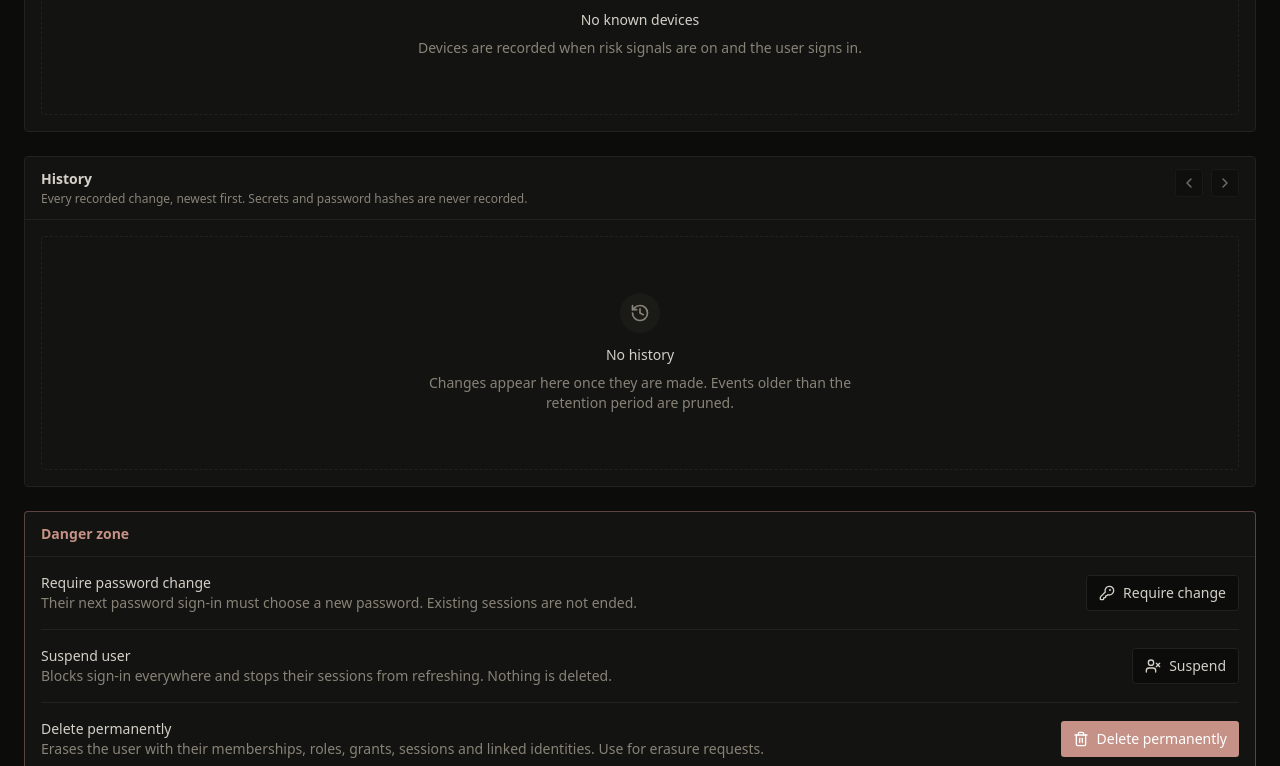
Test: suspends and reactivates a user
(page scrolled)
Click the button "Suspend": (1186,666) [1132, 648, 1239, 684]
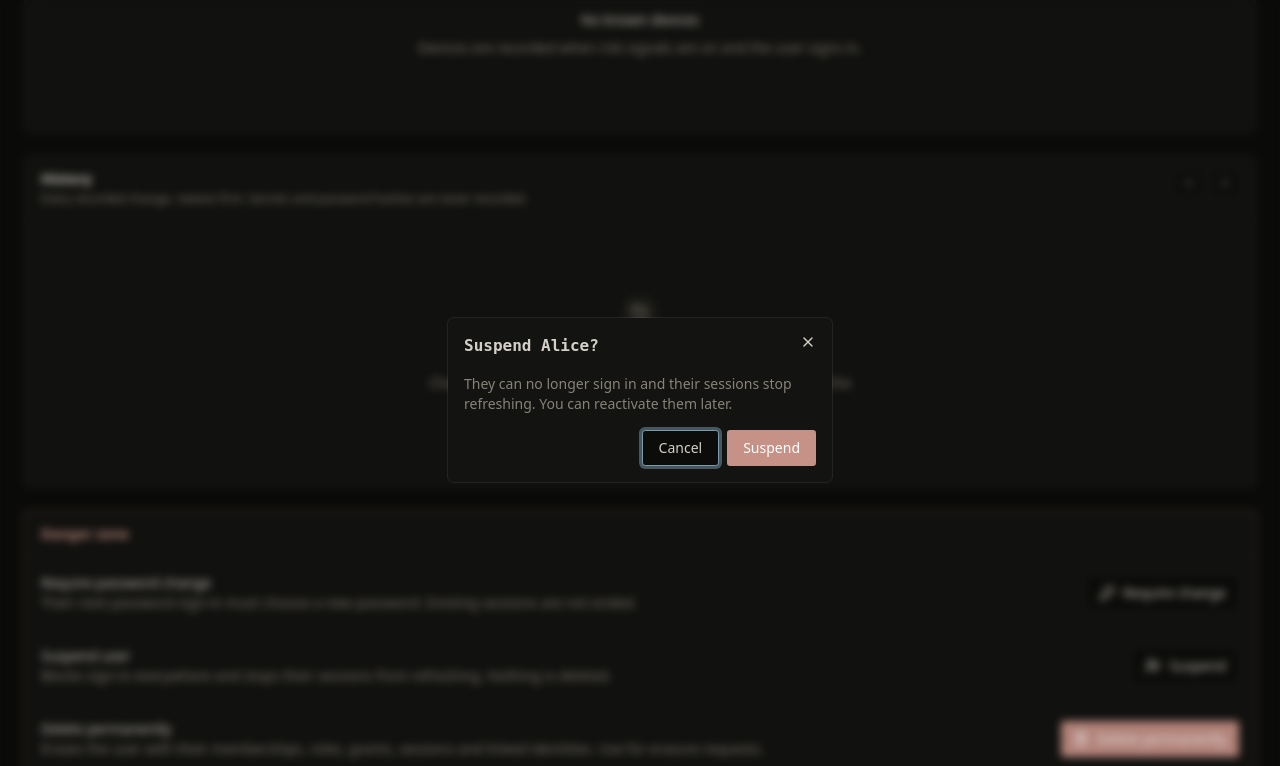
Click the button "Suspend": (772,448) [727, 430, 816, 466]
(page scrolled)
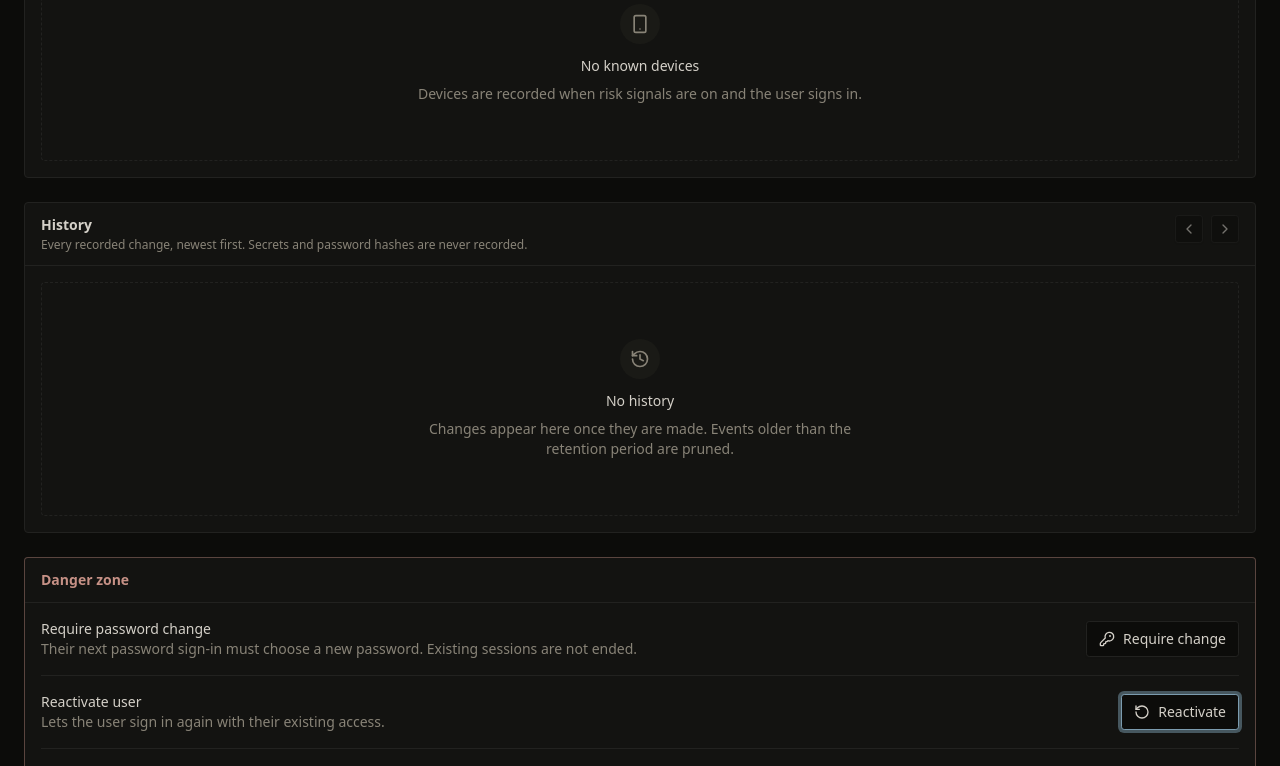
Click the button "Reactivate": (1180,712) [1121, 694, 1239, 730]
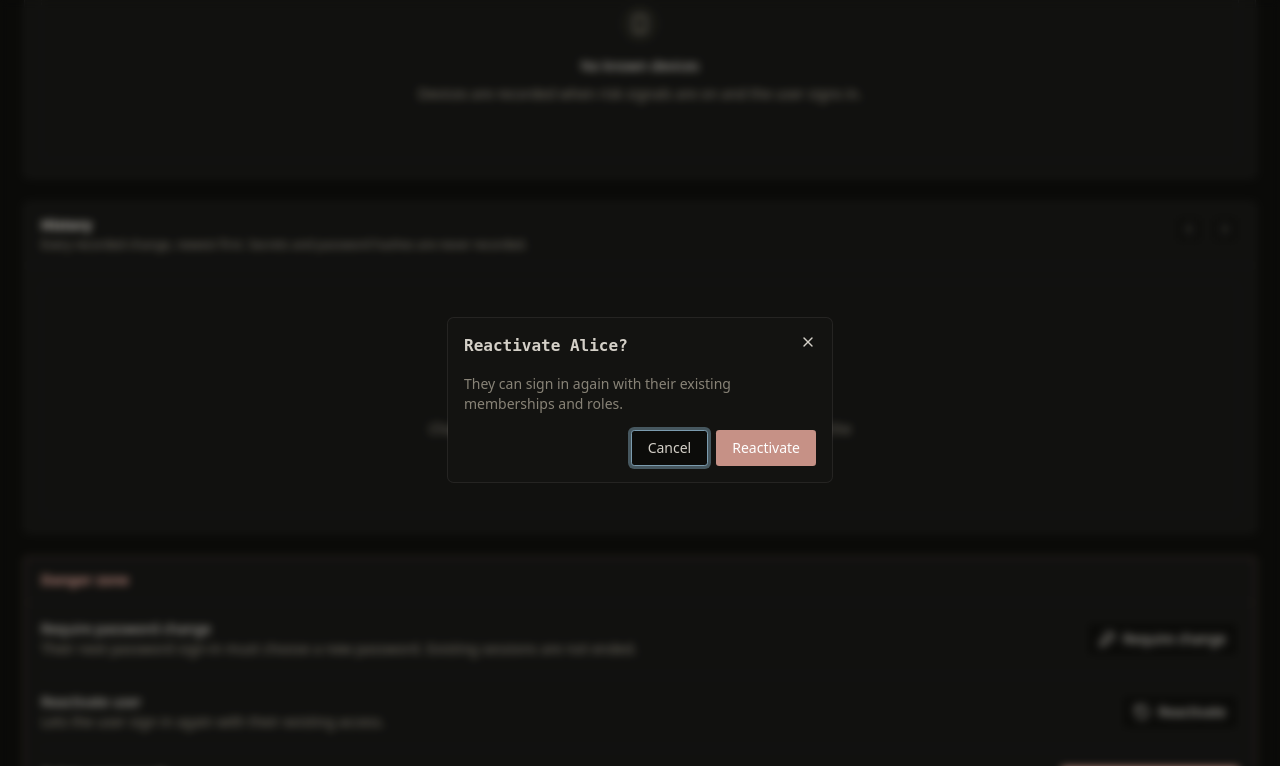
Click the button "Reactivate": (766,448) [716, 430, 816, 466]
(page scrolled)
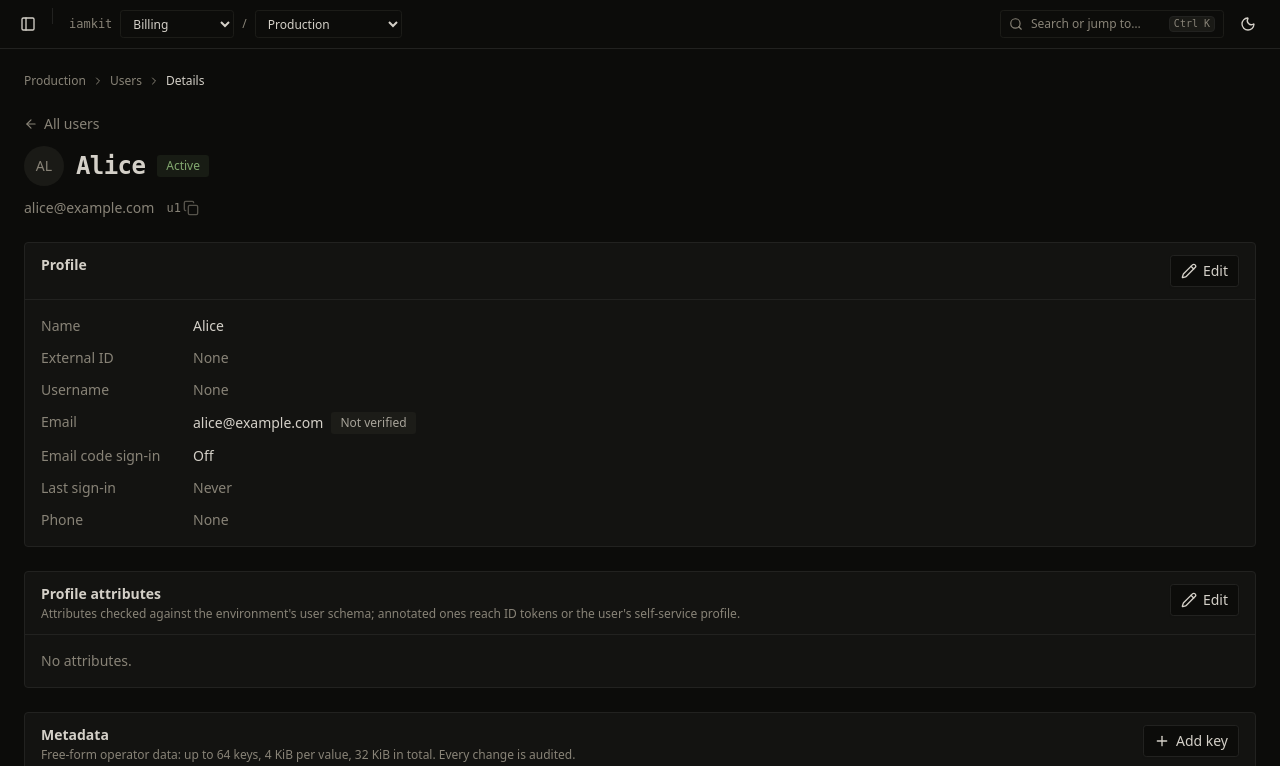
Expected: the text "Active" is shown, [157, 155, 209, 177]
